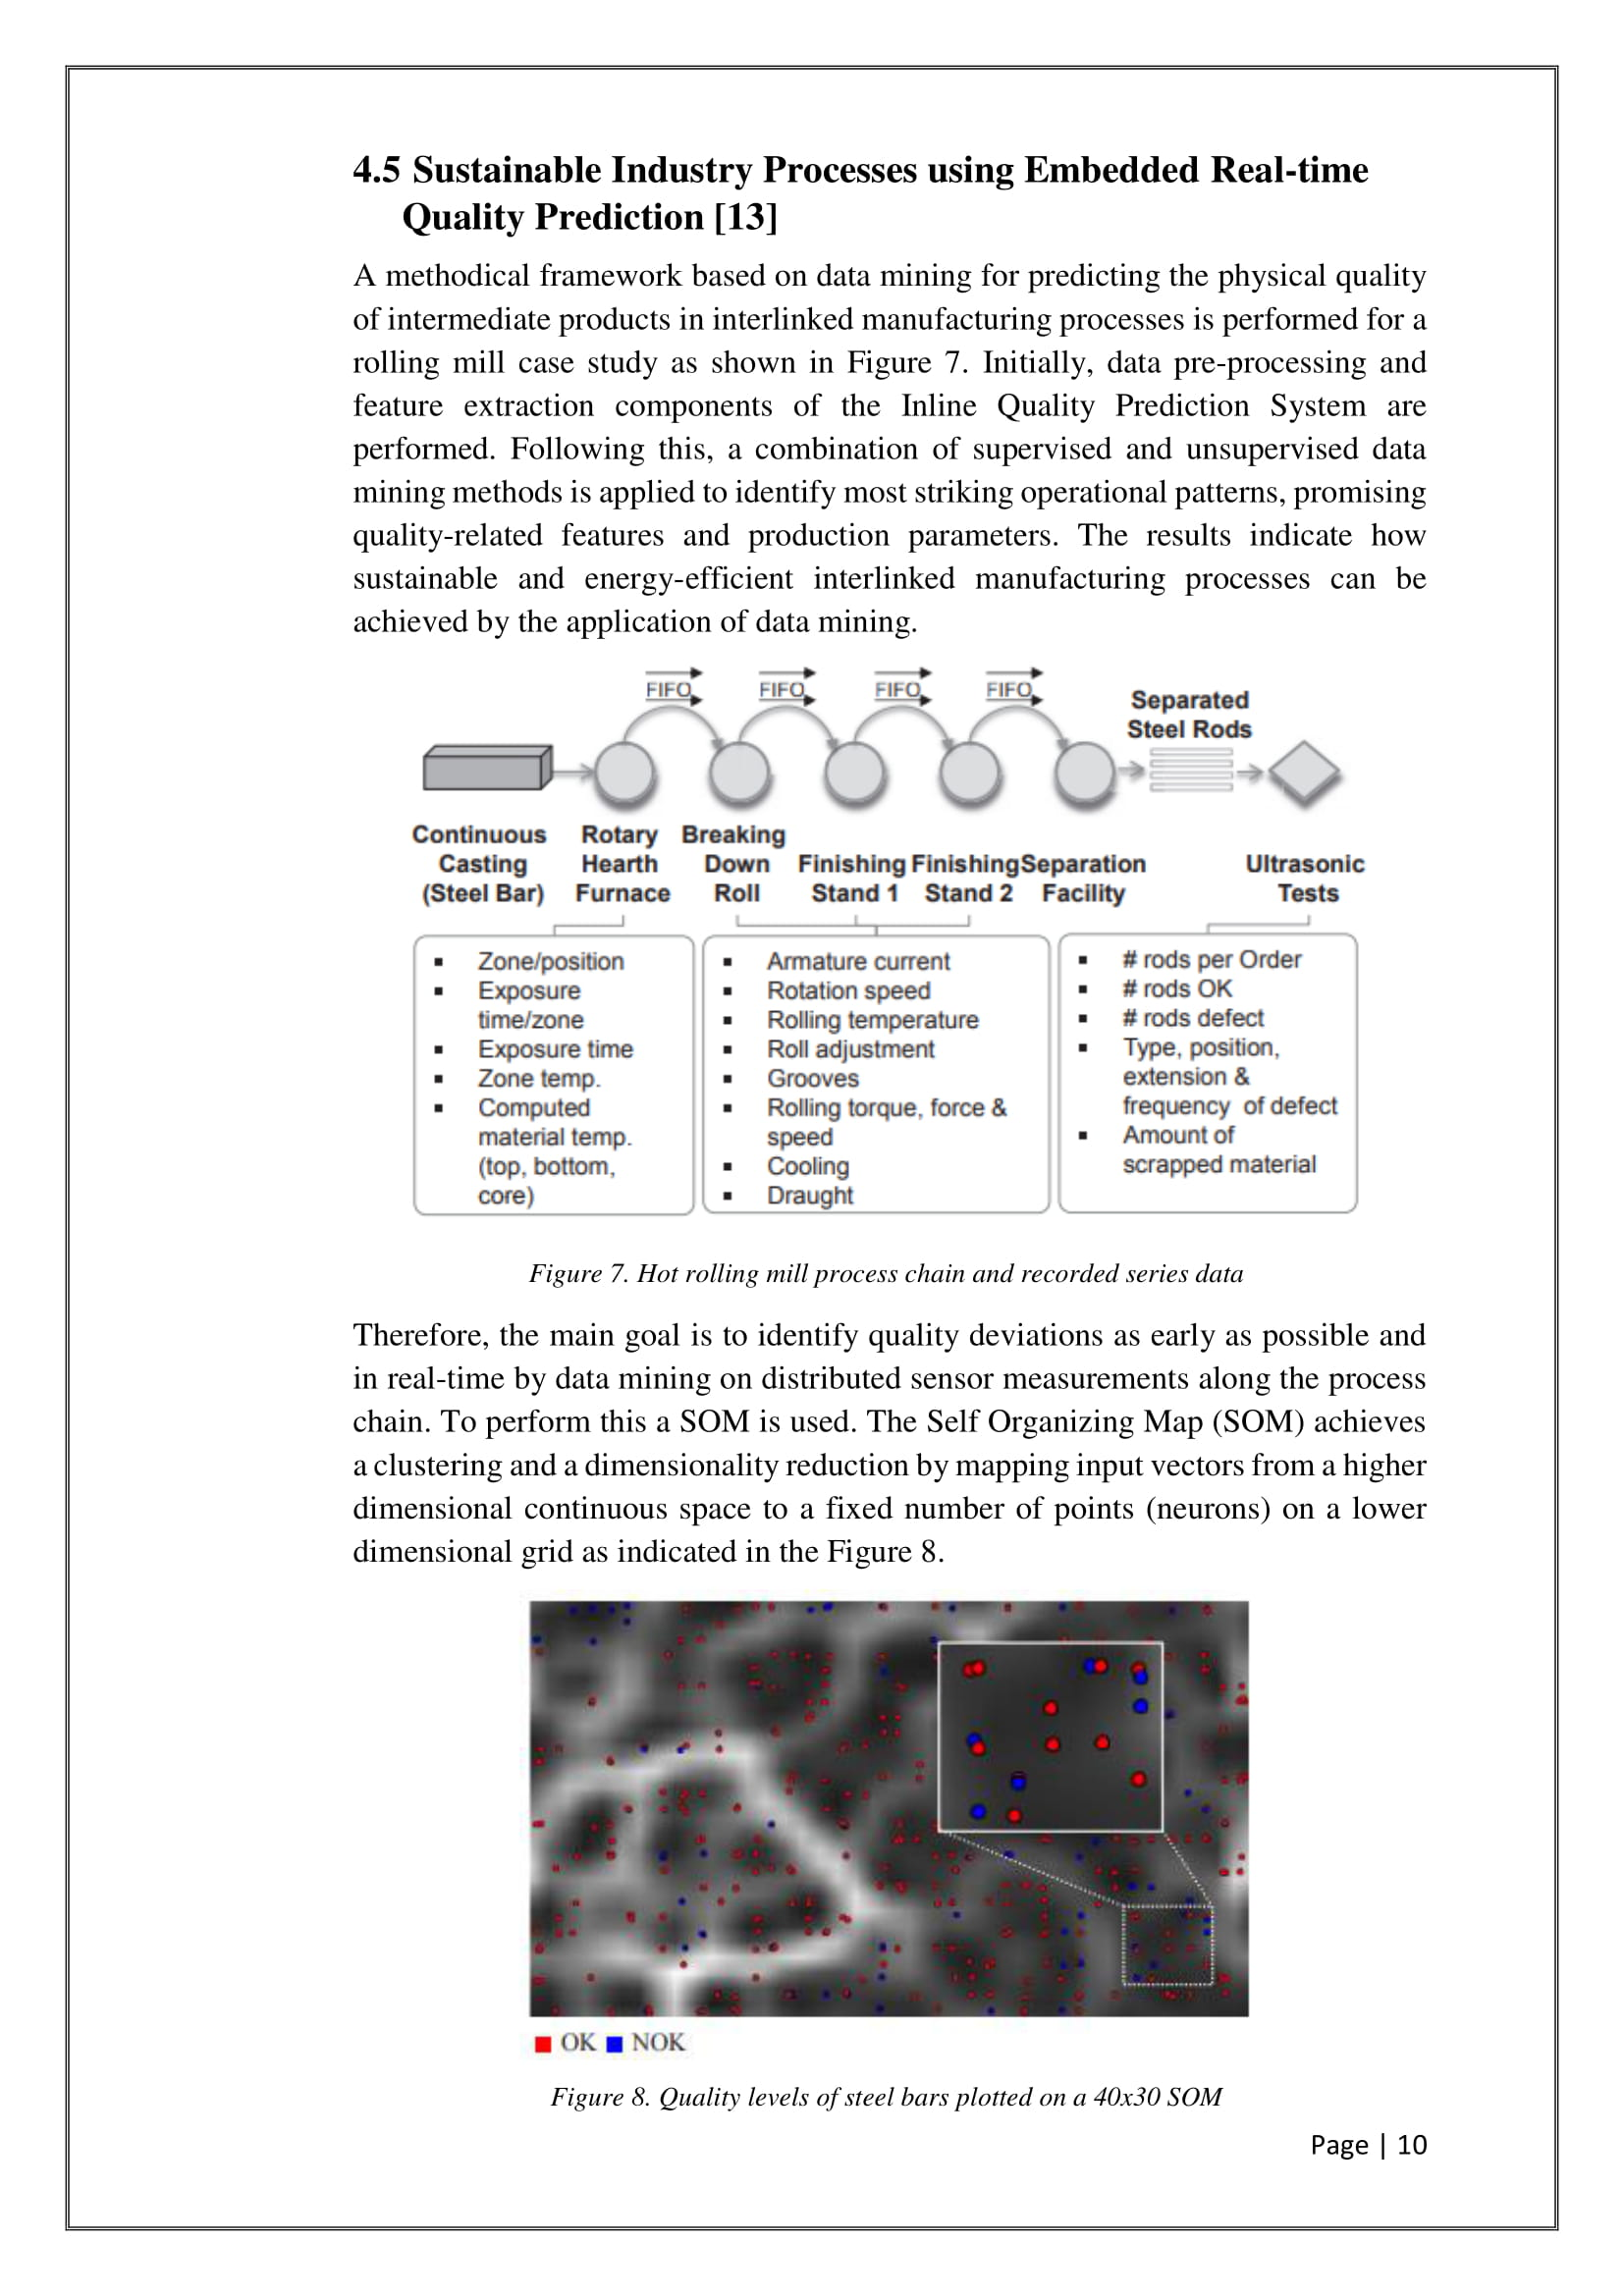BB1: (281, 116, 1496, 646)
BB2: (274, 1291, 1506, 1576)
